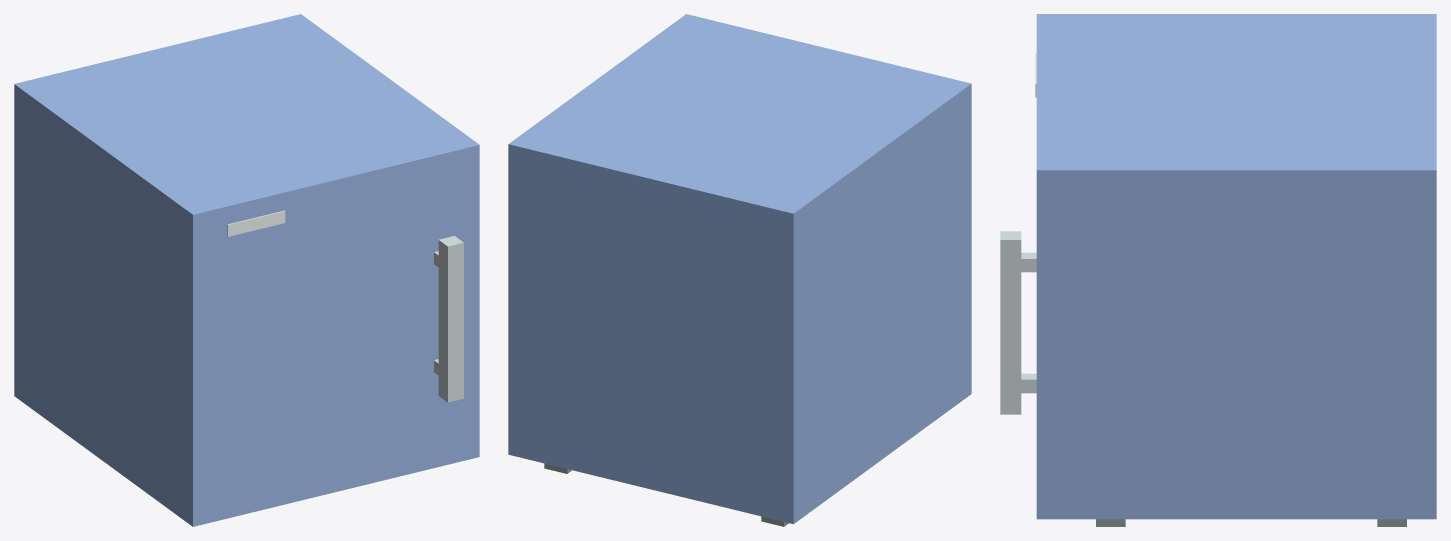
File: fridgeMini.glb
3 renders of one model, left to right at view 1: azimuth 30°, elevation 25°; view 2: azimuth 150°, elevation 25°; view 3: azimuth 270°, elevation 25°, orthographic. The views are drawn at different scales.
Visible parts, largest first — view 1: fridgeMini, anim:door; view 2: fridgeMini, anim:door; view 3: fridgeMini, anim:door.
Part boxes in pixels (bbox=[...]): fridgeMini: bbox=[14, 14, 466, 516]; anim:door: bbox=[179, 135, 479, 526]; fridgeMini: bbox=[508, 23, 958, 526]; anim:door: bbox=[673, 14, 971, 403]; fridgeMini: bbox=[1035, 14, 1436, 526]; anim:door: bbox=[1000, 14, 1066, 519].
Size of the model in its own units: 0.25 by 0.275 by 0.2945.
